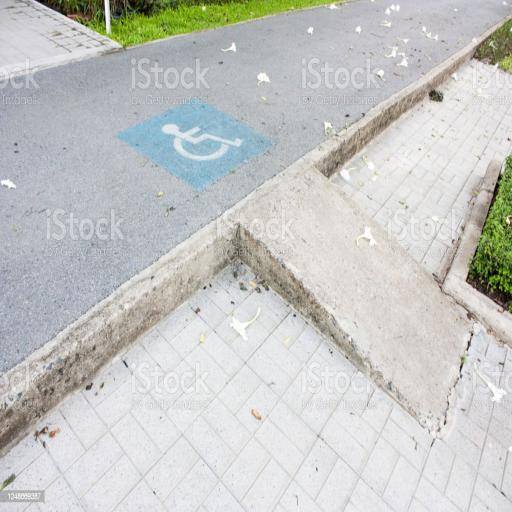ramp: (235, 161, 475, 428)
